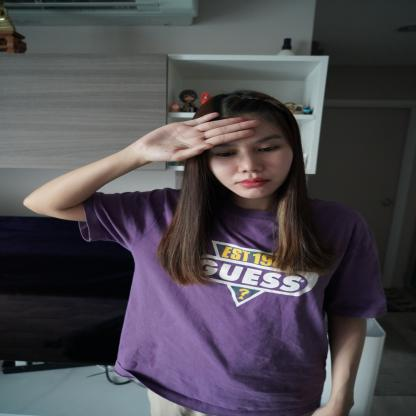Sick: (48, 106, 281, 168)
